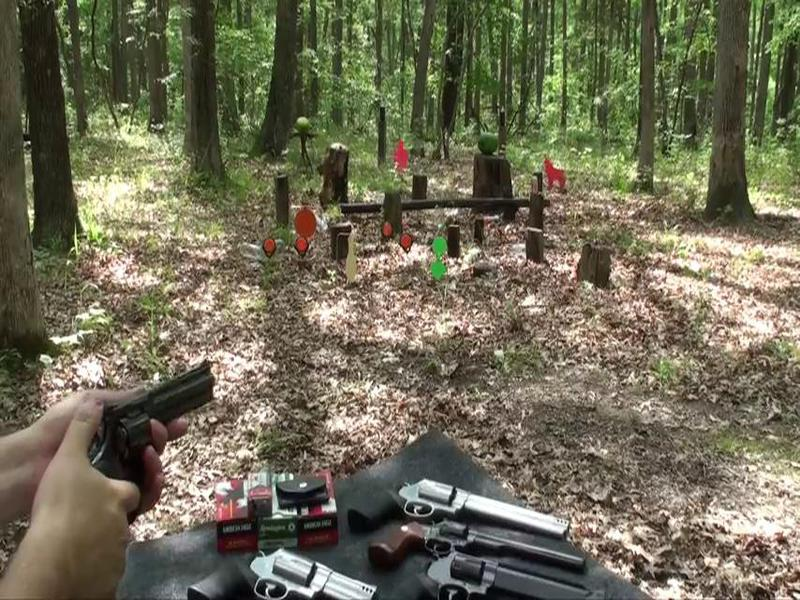Revolver: (54, 343, 251, 543)
